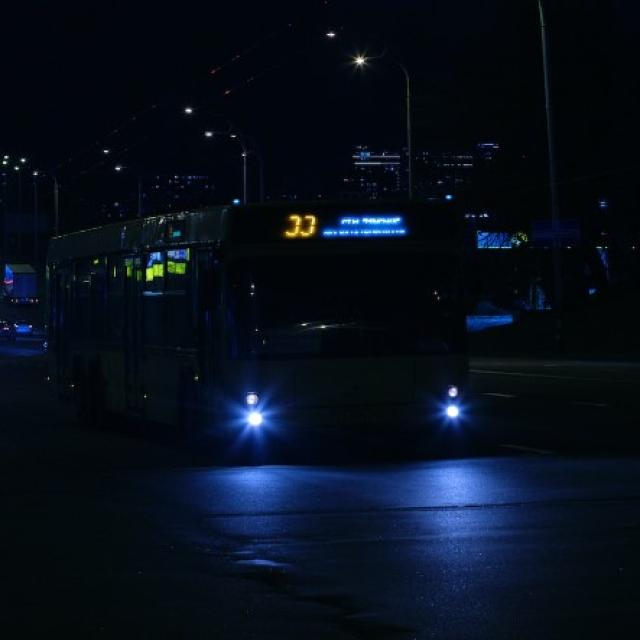bus: (42, 196, 476, 451)
